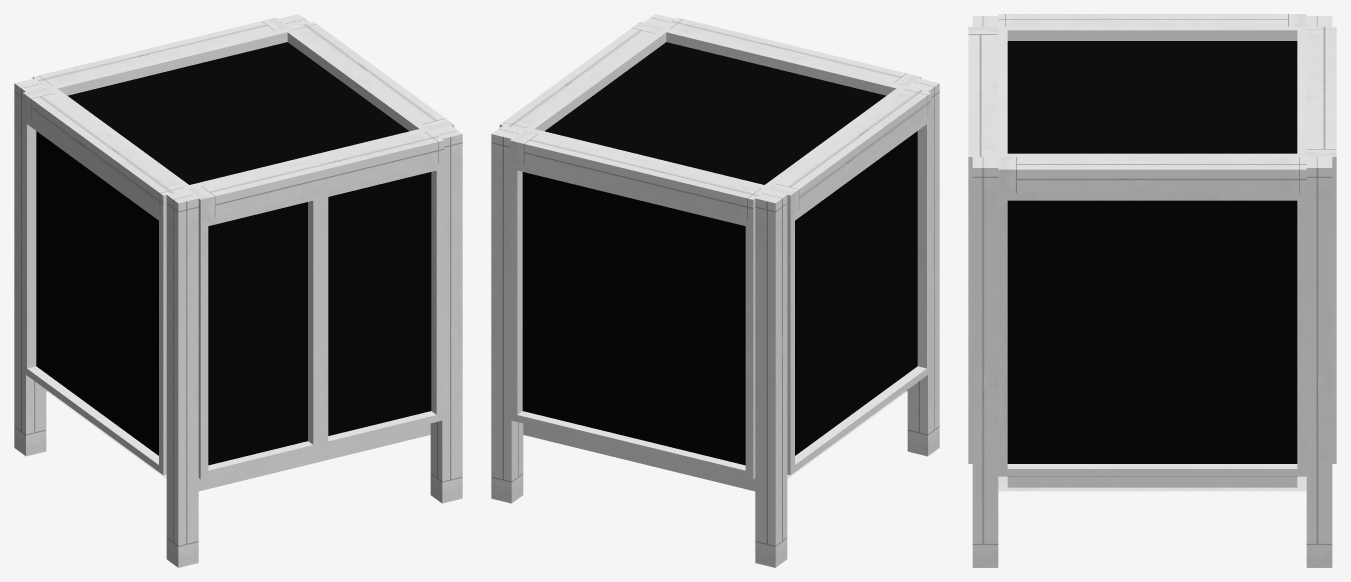
Rendered from Cell.fbx.
3 renders of one model, left to right at view 1: azimuth 30°, elevation 25°; view 2: azimuth 150°, elevation 25°; view 3: azimuth 270°, elevation 25°, orthographic. The views are drawn at different scales.
Parts seen in each view (by area): view 1: Cell, CellRightDoor, CellLeftDoor; view 2: Cell; view 3: Cell, CellRightDoor.
Part boxes in pixels (x1=…): Cell: x1=14, y1=14, x2=462, y2=567; CellRightDoor: x1=321, y1=162, x2=444, y2=449; CellLeftDoor: x1=198, y1=192, x2=320, y2=479; Cell: x1=491, y1=14, x2=939, y2=567; Cell: x1=968, y1=14, x2=1336, y2=567; CellRightDoor: x1=968, y1=180, x2=972, y2=463.
Bounding box in the file's own units: 358 × 429 × 358.
Materials: 2 (1 with a texture image).
